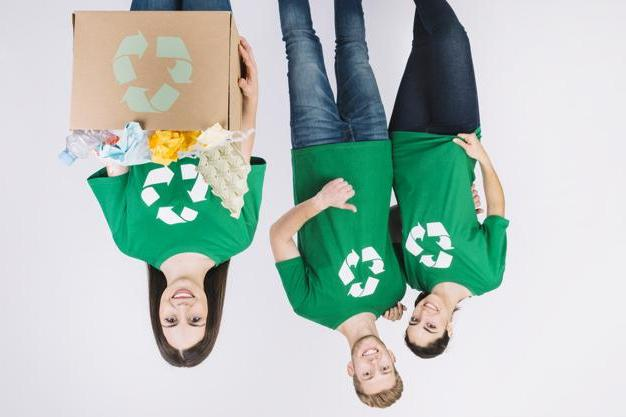thumbsdown: (331, 178, 358, 212)
